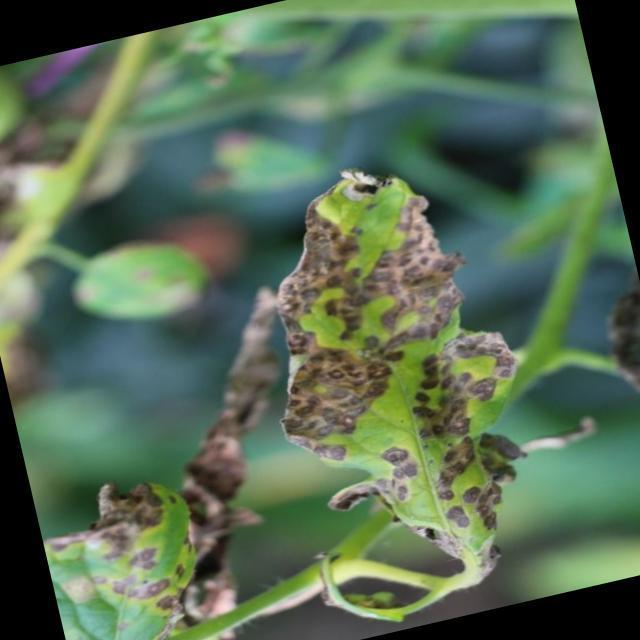Septoria: (289, 326, 536, 574), (86, 538, 181, 634)
